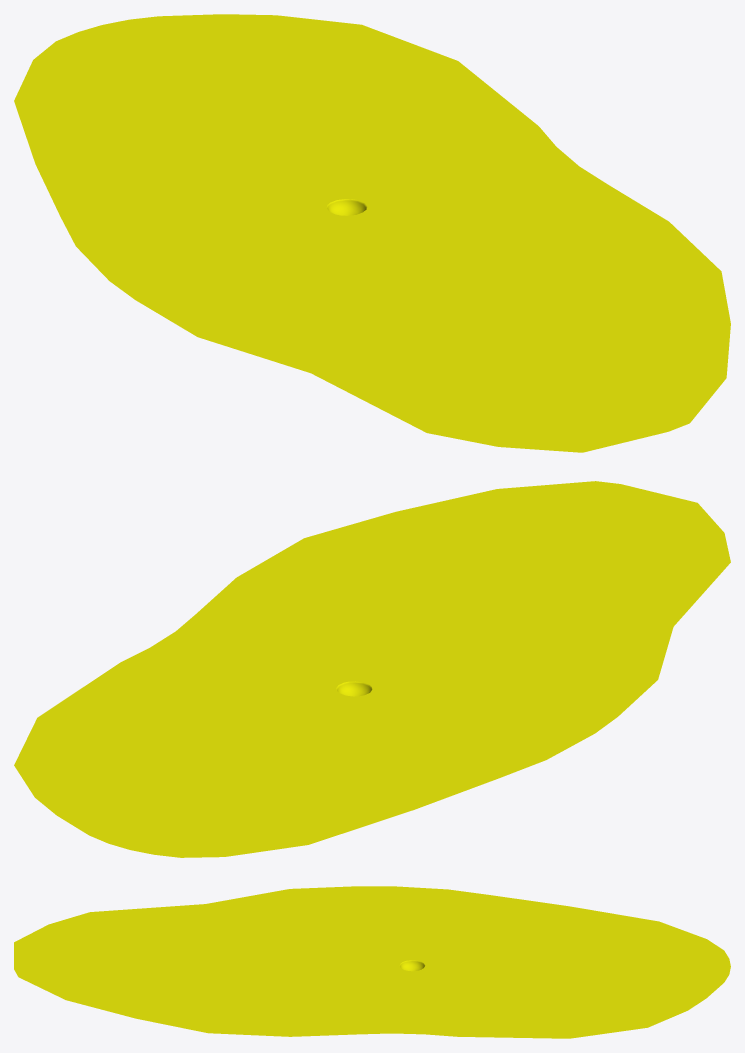
The picture shows the model from 3 angles, top to bottom: view 1: azimuth 30°, elevation 25°; view 2: azimuth 150°, elevation 25°; view 3: azimuth 270°, elevation 25°; orthographic projection. The views are drawn at different scales.
Visible parts, largest first — view 1: san1; view 2: san1; view 3: san1.
Part boxes in pixels (x1,y1,x2,y2): san1: [14, 14, 730, 452]; san1: [14, 481, 730, 857]; san1: [14, 886, 730, 1038].
Size of the model in its own units: 11.46 by 0.2379 by 22.75.
1 material, 1 textured.
